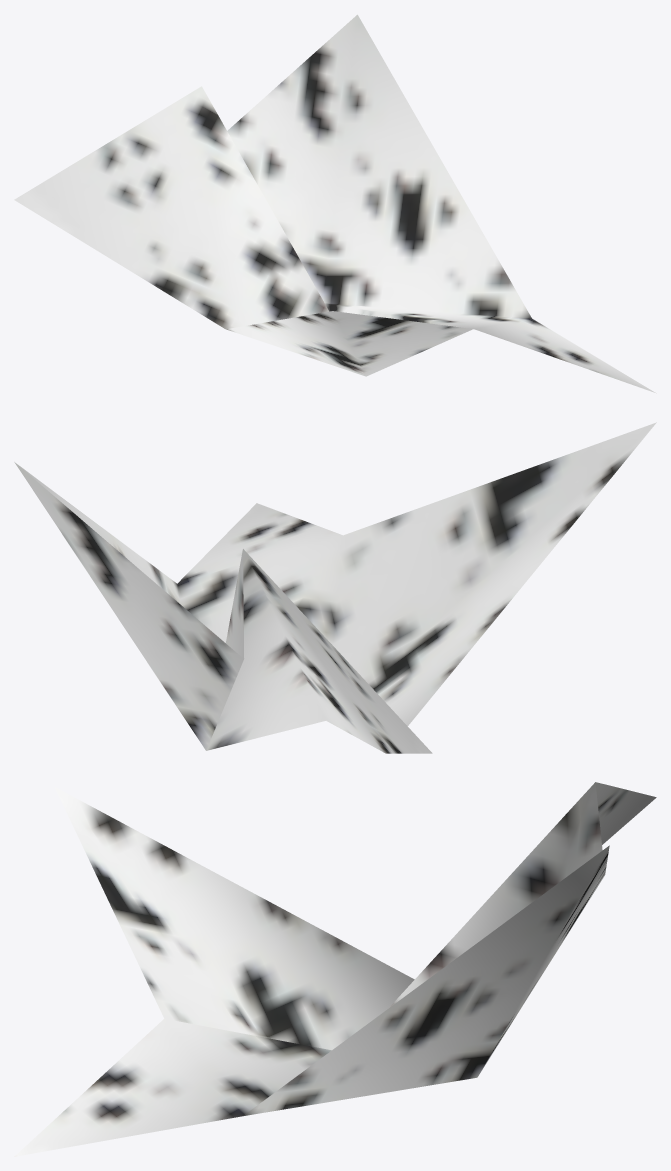
File: Paper_Ball.glb
The picture shows the model from 3 angles, top to bottom: view 1: azimuth 30°, elevation 25°; view 2: azimuth 150°, elevation 25°; view 3: azimuth 270°, elevation 25°; orthographic projection. The views are drawn at different scales.
Parts seen in each view (by area): view 1: paper_01_geo; view 2: paper_01_geo; view 3: paper_01_geo.
Part boxes in pixels (bbox=[...]): paper_01_geo: bbox=[14, 14, 656, 393]; paper_01_geo: bbox=[14, 422, 656, 753]; paper_01_geo: bbox=[14, 782, 656, 1156].
Size of what is drawn, in the model's own units: 0.3438 by 0.212 by 0.397.
1 material, 1 textured.
